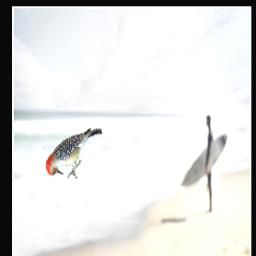Woodpecker: (46, 126, 102, 179)
